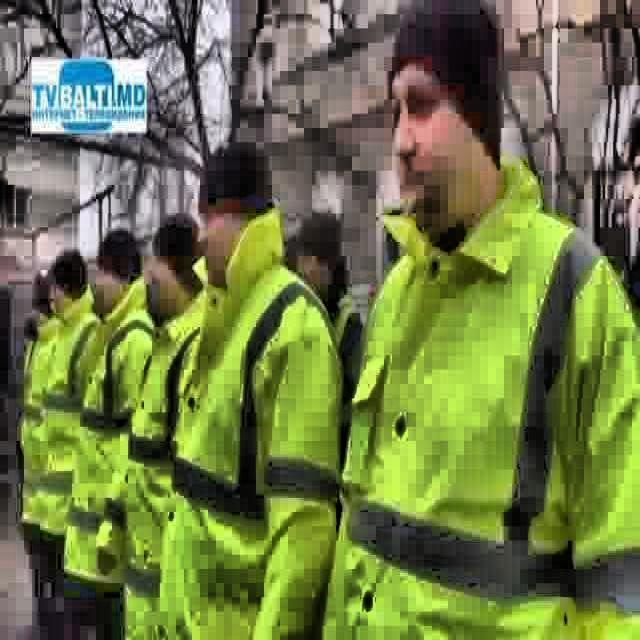safety_jacket: (320, 154, 640, 640), (157, 201, 345, 640), (127, 290, 212, 640), (63, 274, 158, 585), (40, 282, 100, 534), (18, 316, 61, 530)
